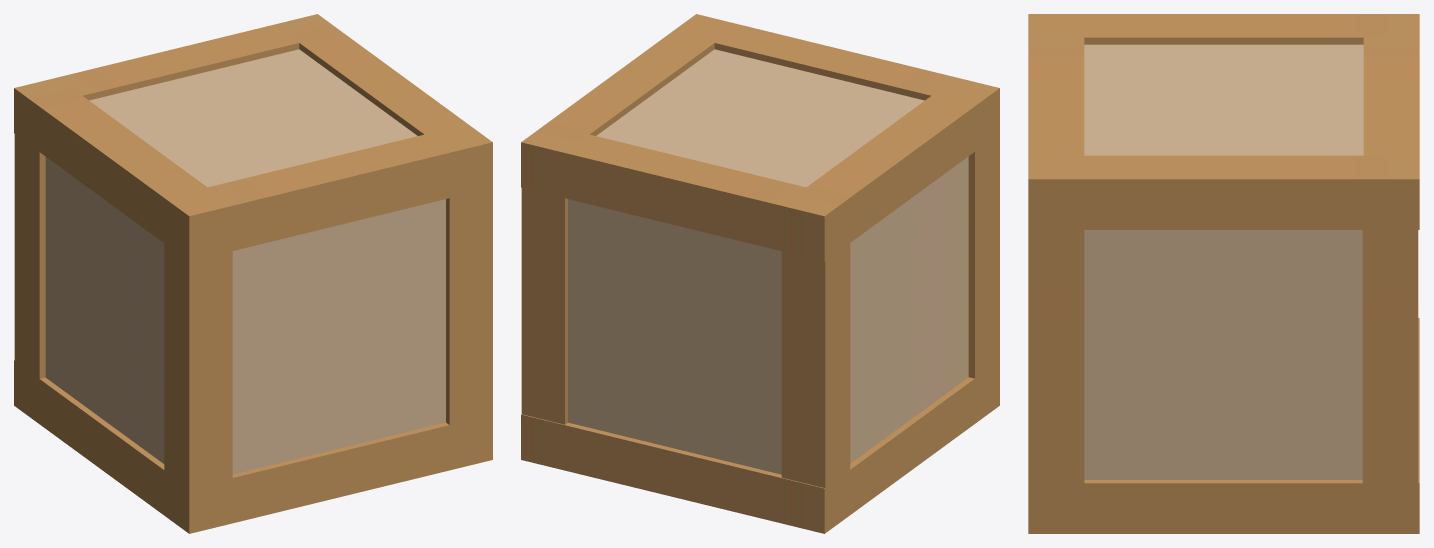
The picture shows the model from 3 angles, left to right: view 1: azimuth 30°, elevation 25°; view 2: azimuth 150°, elevation 25°; view 3: azimuth 270°, elevation 25°; orthographic projection. The views are drawn at different scales.
Visible parts, largest first — view 1: CubeIn, CubeOut; view 2: CubeIn, CubeOut; view 3: CubeIn, CubeOut.
Boxes of the visible parts, x1=… form: CubeIn: x1=14, y1=14, x2=492, y2=533; CubeOut: x1=45, y1=49, x2=445, y2=474; CubeIn: x1=521, y1=14, x2=999, y2=533; CubeOut: x1=568, y1=49, x2=968, y2=474; CubeIn: x1=1028, y1=14, x2=1419, y2=533; CubeOut: x1=1084, y1=44, x2=1363, y2=479.
Bounding box in the file's own units: 140 × 140 × 140.
